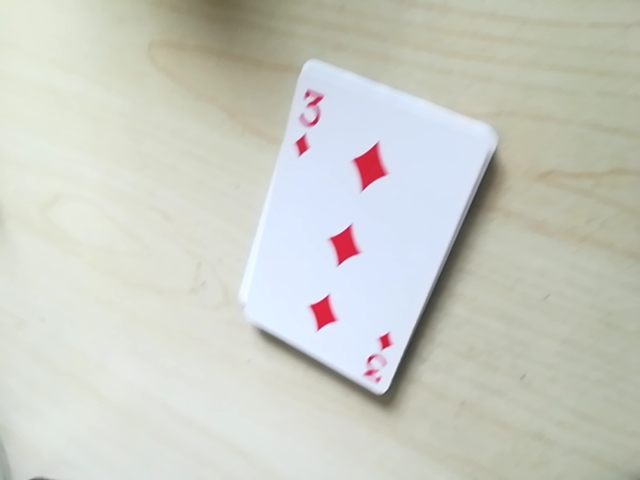fk 3: (286, 72, 327, 165), (356, 324, 392, 393)
